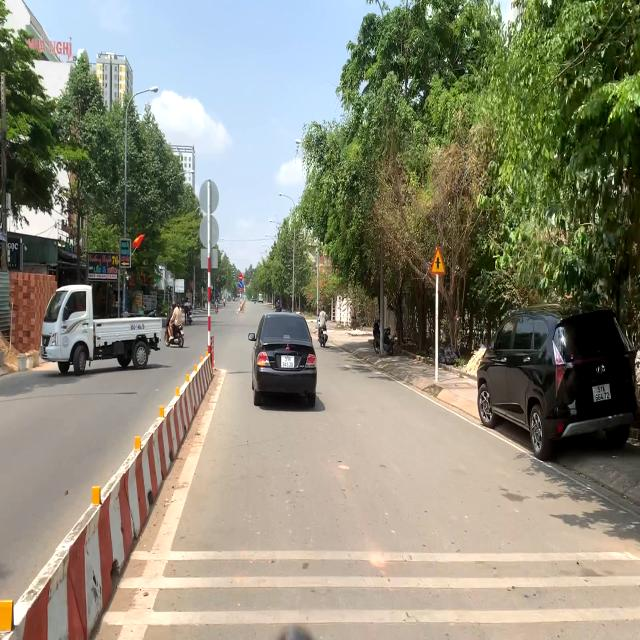W.207a: (429, 246, 447, 276)
